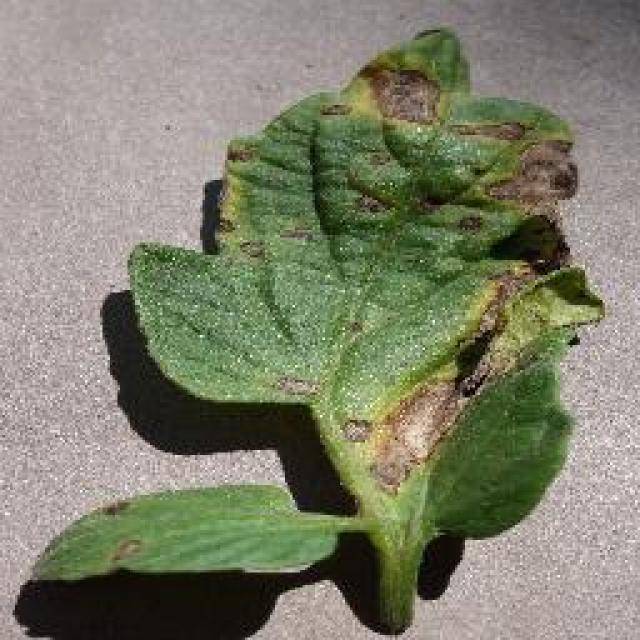leaf blight: (29, 30, 605, 627)
